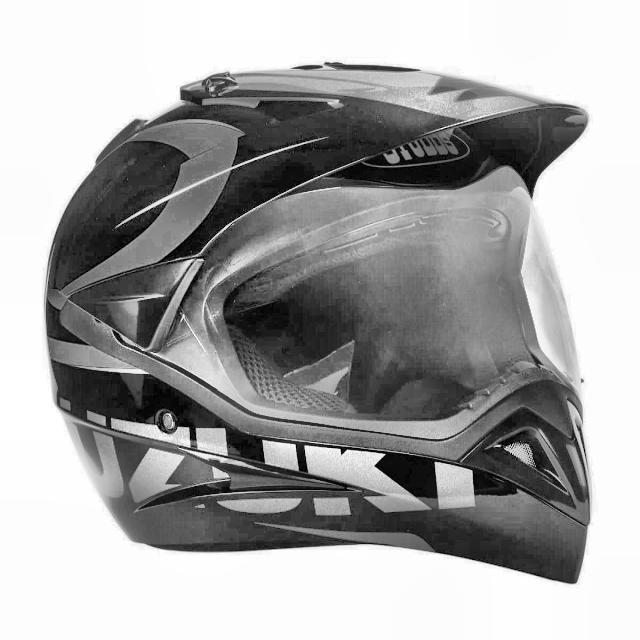Helmet: (41, 39, 606, 596)
